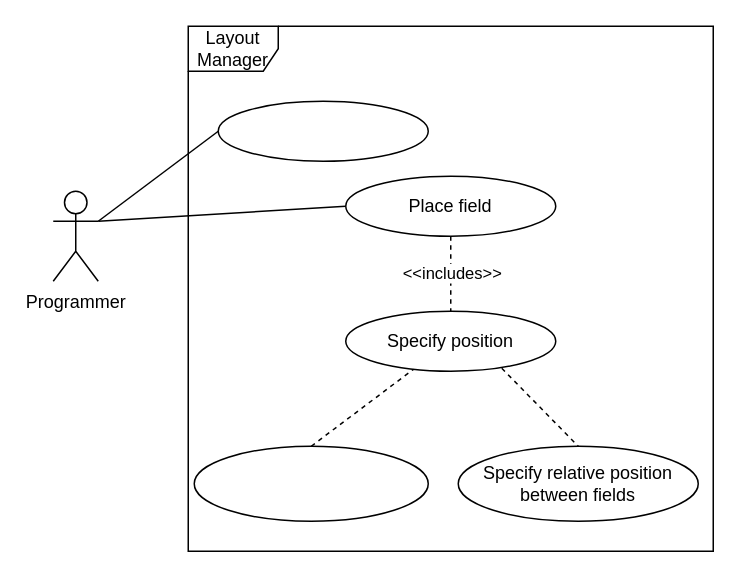
Image size: 740x578. Some labels were removed from this diagram. The centre of each missing label's shape, as x and y in pixels:
"Creates Fields" goes at (x=322, y=130).
"specify position relative to container" goes at (x=310, y=483).
